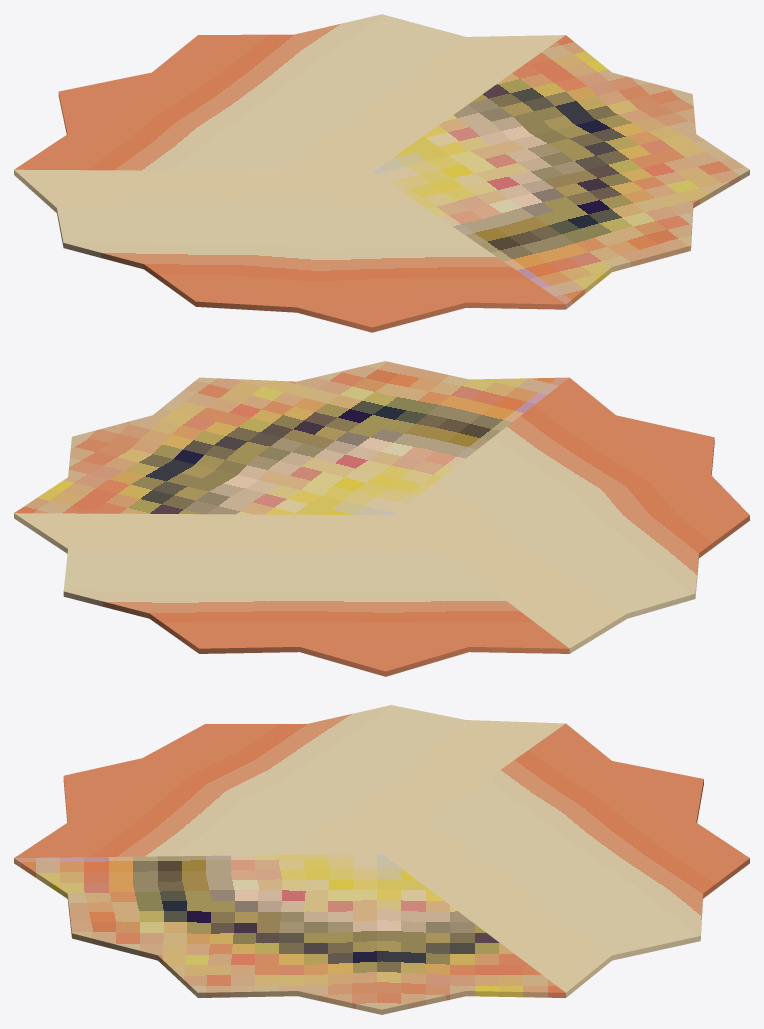
Rendered from a_com_house_a01_coaster01.gltf.
3 views of the same model, one above another, from view 1: azimuth 30°, elevation 25°; view 2: azimuth 150°, elevation 25°; view 3: azimuth 270°, elevation 25° (orthographic).
Parts seen in each view (by area): view 1: a_com_house_a01_coaster01_mesh2_shape:a_com_house_a01_coaste; view 2: a_com_house_a01_coaster01_mesh2_shape:a_com_house_a01_coaste; view 3: a_com_house_a01_coaster01_mesh2_shape:a_com_house_a01_coaste.
Part boxes in pixels (x1=…): a_com_house_a01_coaster01_mesh2_shape:a_com_house_a01_coaste: x1=14, y1=14, x2=749, y2=332; a_com_house_a01_coaster01_mesh2_shape:a_com_house_a01_coaste: x1=14, y1=361, x2=749, y2=676; a_com_house_a01_coaster01_mesh2_shape:a_com_house_a01_coaste: x1=14, y1=705, x2=749, y2=1014.
Size of the model in its own units: 0.5024 by 0.00403 by 0.5128.
Materials: 1 (1 with a texture image).
